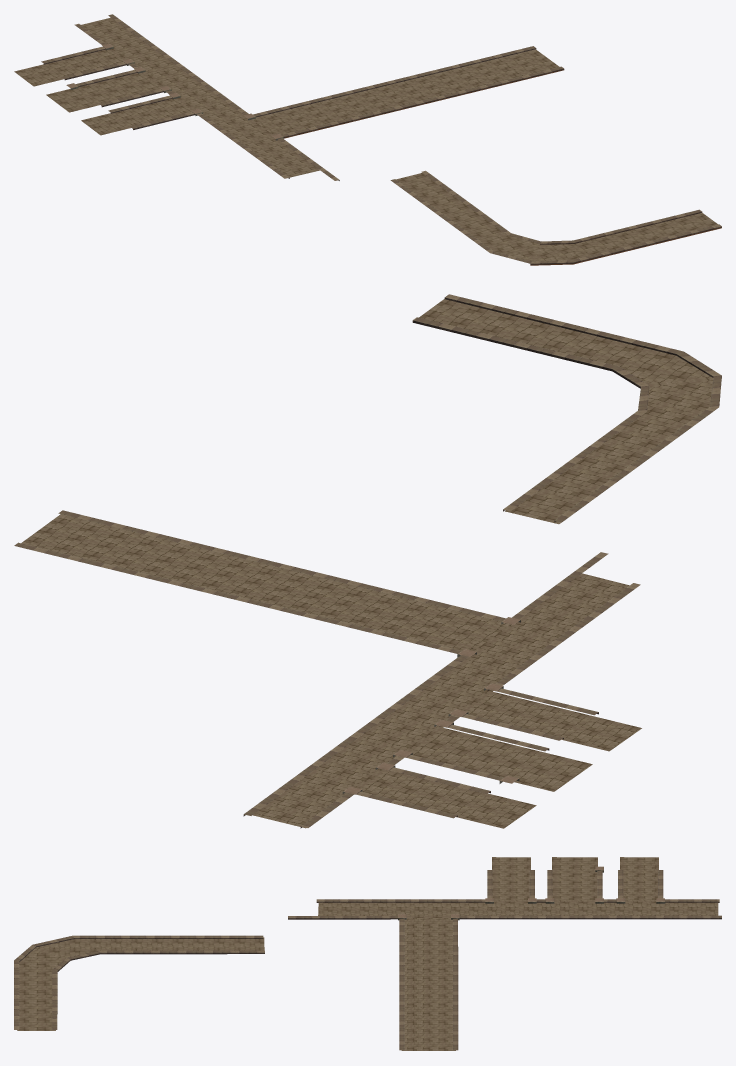
The model's file is terrain_section03_guanka11_lu.FBX.
3 renders of one model, top to bottom at view 1: azimuth 30°, elevation 25°; view 2: azimuth 150°, elevation 25°; view 3: azimuth 270°, elevation 25°, orthographic. The views are drawn at different scales.
Visible parts, largest first — view 1: terrain_section03_guanka11_lu; view 2: terrain_section03_guanka11_lu; view 3: terrain_section03_guanka11_lu.
Part boxes in pixels (x1,y1,x2,y2): terrain_section03_guanka11_lu: (14,14,721,265); terrain_section03_guanka11_lu: (14,294,721,828); terrain_section03_guanka11_lu: (14,857,721,1050).
Bounding box in the file's own units: 100 × 0.5966 × 154.
